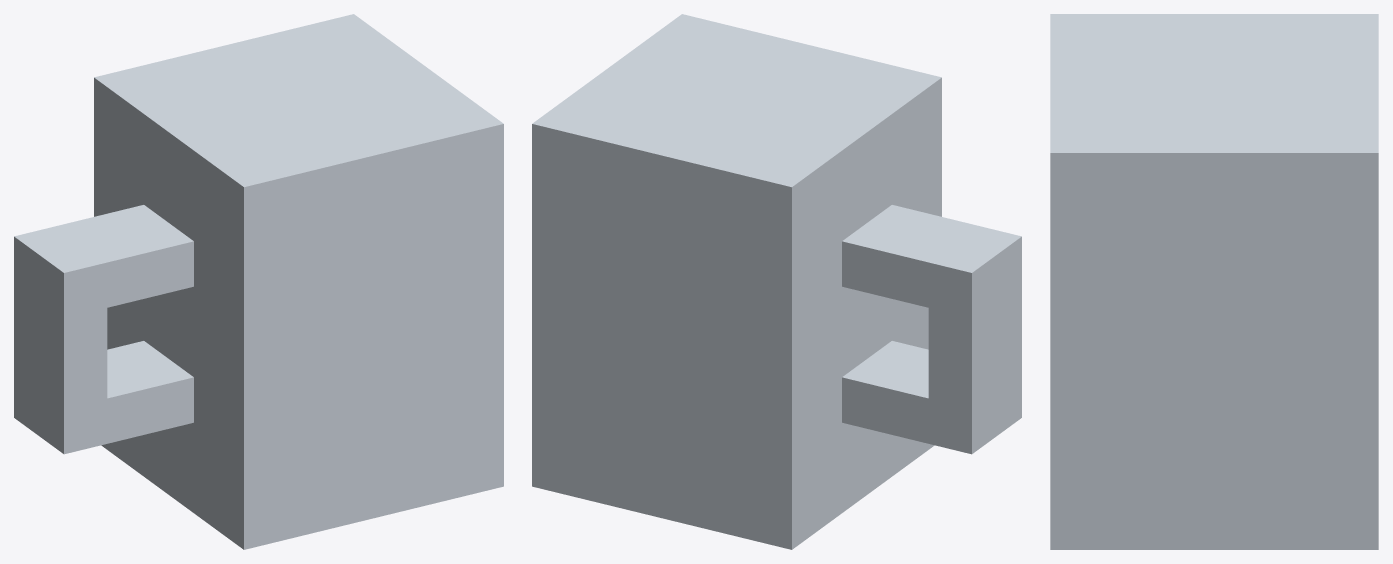
File: mug.obj
3 views of the same model, side by side, from view 1: azimuth 30°, elevation 25°; view 2: azimuth 150°, elevation 25°; view 3: azimuth 270°, elevation 25° (orthographic). The views are drawn at different scales.
Bounding box in the file's own units: 4.5 × 4 × 3.
Materials: 1 (1 with a texture image).
